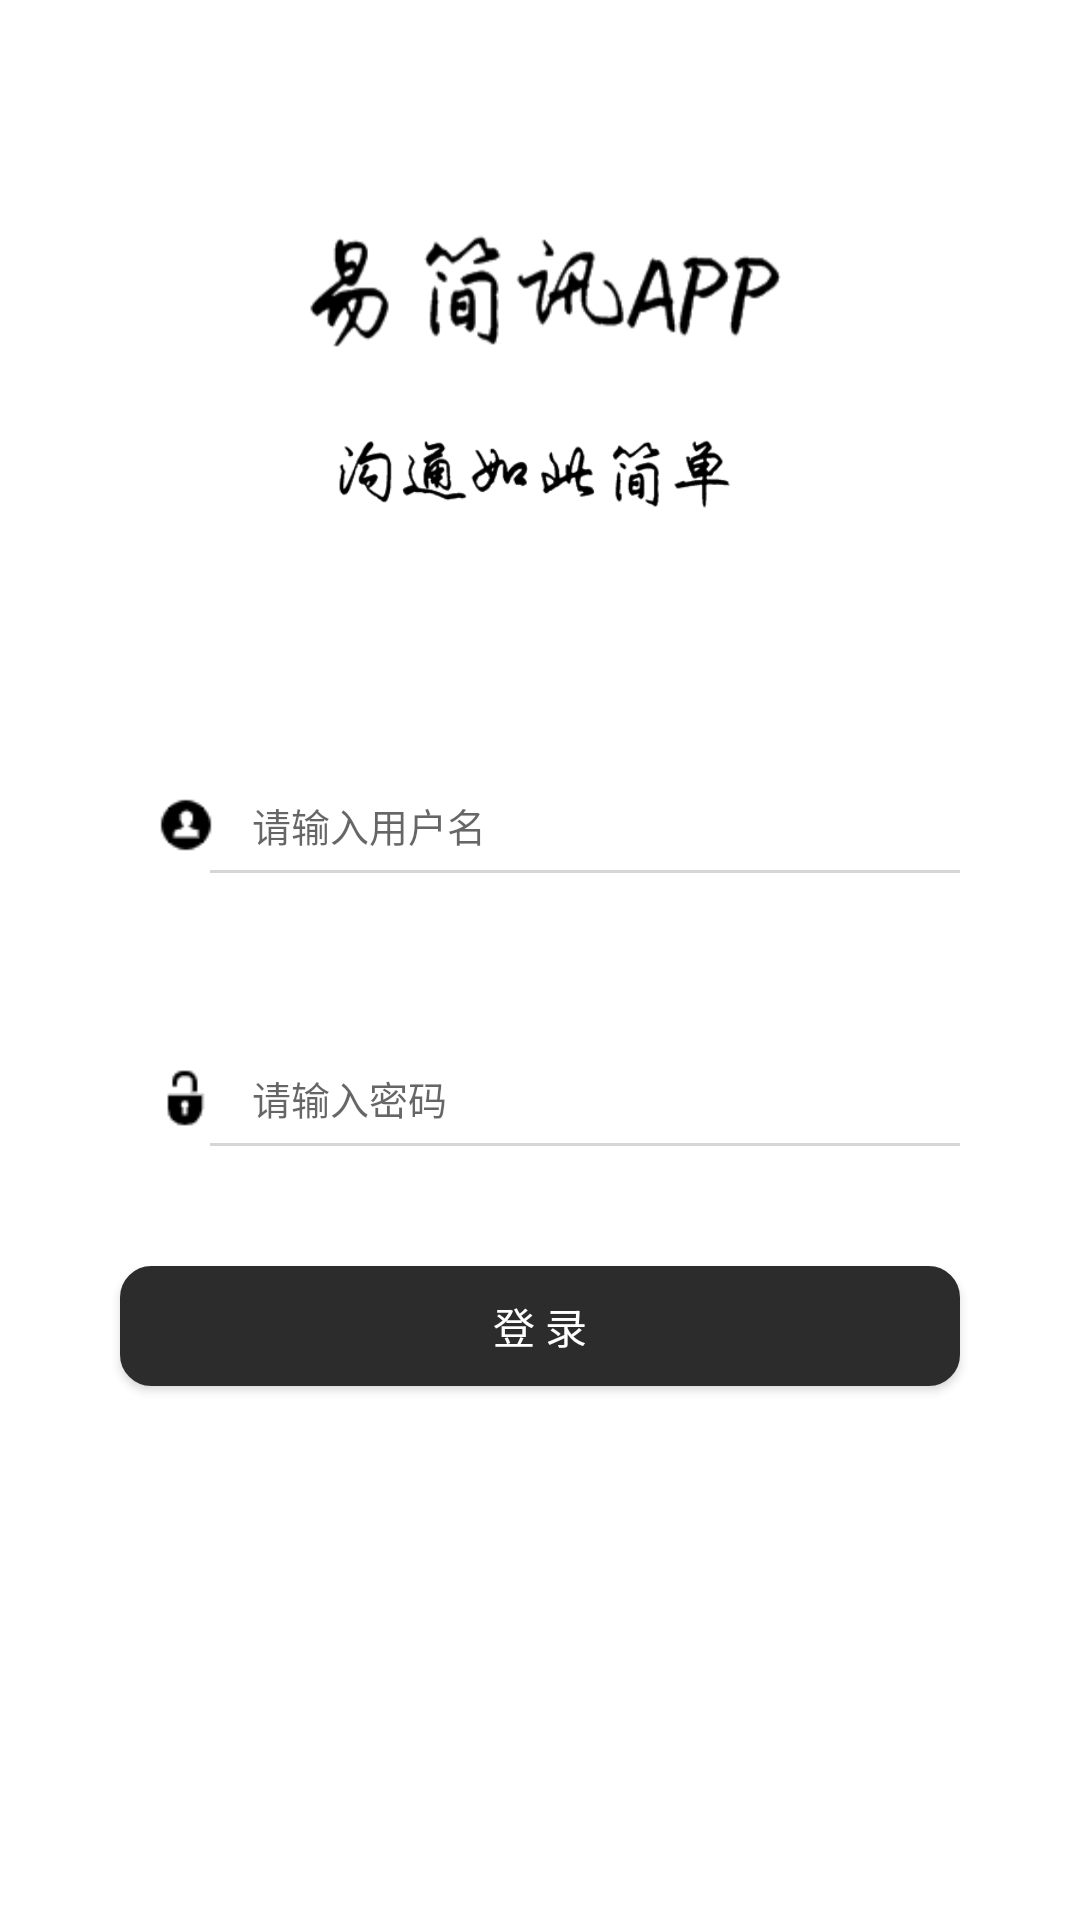

Locate icon controls on the screen. Image size 1080×1920, boxes as bbox(x1, y1, x2, y2).
linkman: bbox(160, 799, 212, 851)
lock: bbox(167, 1070, 204, 1126)
